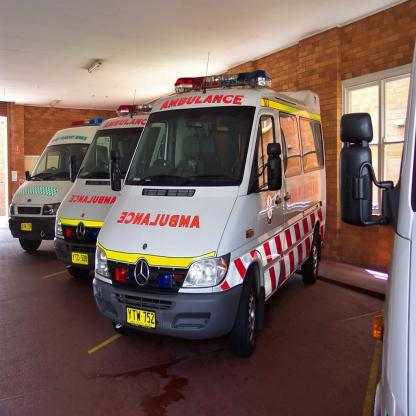Ambulance - v1 Ambulance last generate: (7, 50, 327, 358)
